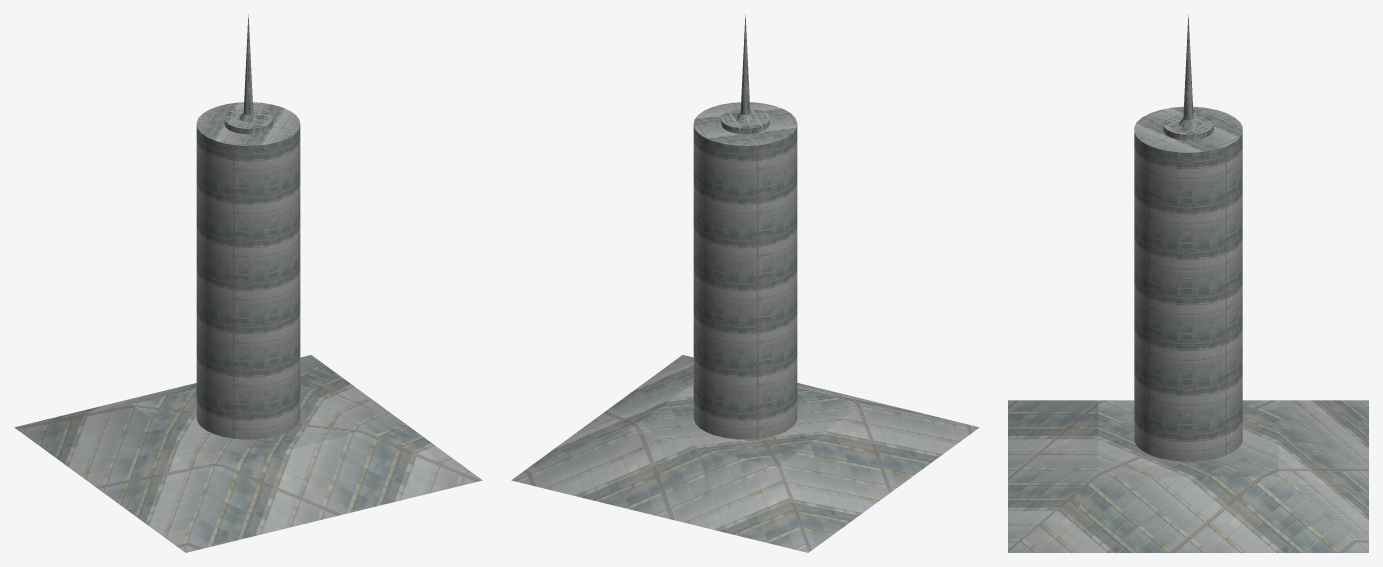
File: build_type2.FBX
The picture shows the model from 3 angles, left to right: view 1: azimuth 30°, elevation 25°; view 2: azimuth 150°, elevation 25°; view 3: azimuth 270°, elevation 25°; orthographic projection. The views are drawn at different scales.
Parts seen in each view (by area): view 1: Cone001, Circle001, Circle005, Cone003; view 2: Cone001, Circle001, Circle005, Cone003; view 3: Cone001, Circle001, Circle005, Cone003.
Part boxes in pixels (box(x1,y1,x2,y2)): Cone001: box(14, 355, 482, 552); Circle001: box(196, 102, 300, 439); Circle005: box(224, 108, 272, 134); Cone003: box(243, 14, 253, 114); Cone001: box(511, 355, 979, 552); Circle001: box(693, 102, 797, 439); Circle005: box(721, 108, 769, 134); Cone003: box(740, 14, 750, 114); Cone001: box(1008, 400, 1368, 552); Circle001: box(1134, 106, 1242, 461); Circle005: box(1163, 113, 1213, 140); Cone003: box(1183, 14, 1193, 120).
Bounding box in the file's own units: 223 × 315 × 223.
2 materials, 2 textured.
